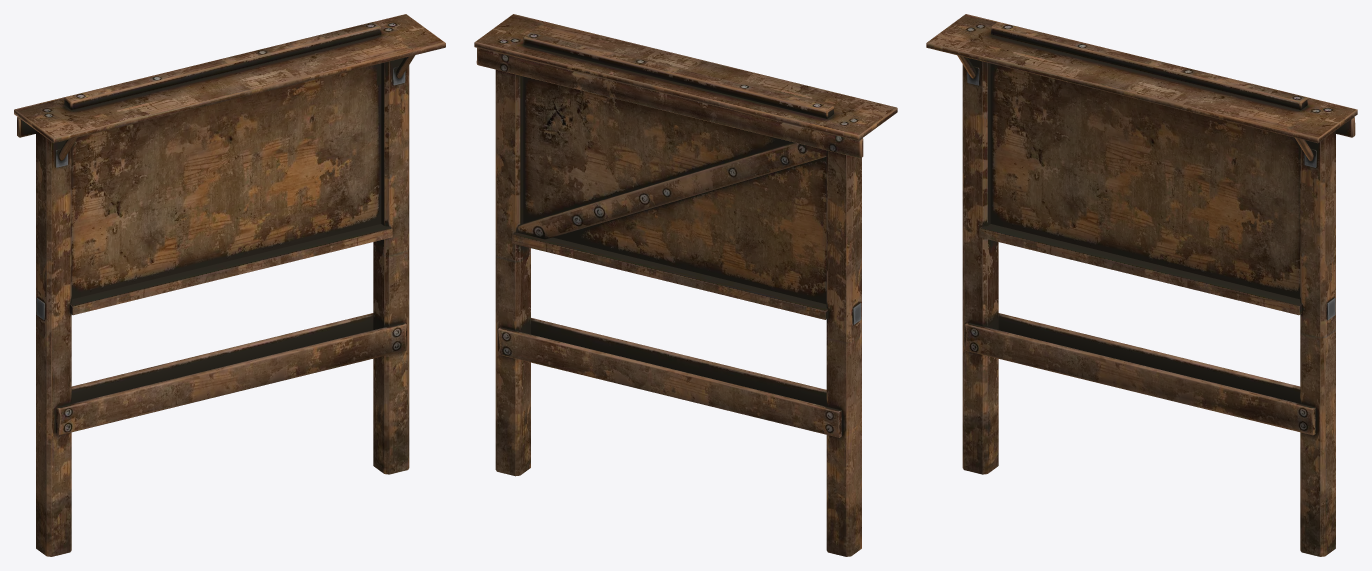
Rendered from notice_board-a9230bcf.glb.
The picture shows the model from 3 angles, left to right: view 1: azimuth 30°, elevation 25°; view 2: azimuth 150°, elevation 25°; view 3: azimuth 330°, elevation 25°; orthographic projection.
Visible parts, largest first — view 1: Symmetry_5__0; view 2: Symmetry_5__0; view 3: Symmetry_5__0.
Part boxes in pixels (x1,y1,x2,y2): Symmetry_5__0: (14, 14, 445, 556); Symmetry_5__0: (474, 14, 897, 556); Symmetry_5__0: (926, 14, 1357, 556).
Size of the model in its own units: 2.35 by 2.55 by 0.4133.
1 material, 1 textured.
